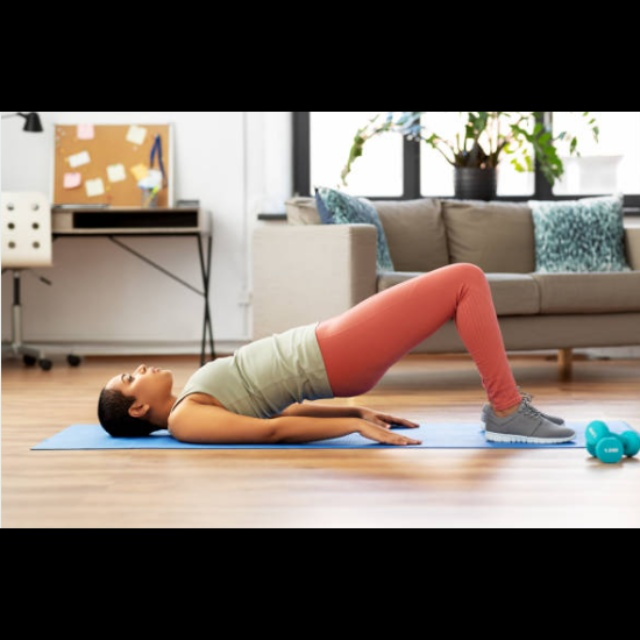Bridge_Pose: (86, 255, 579, 452)
